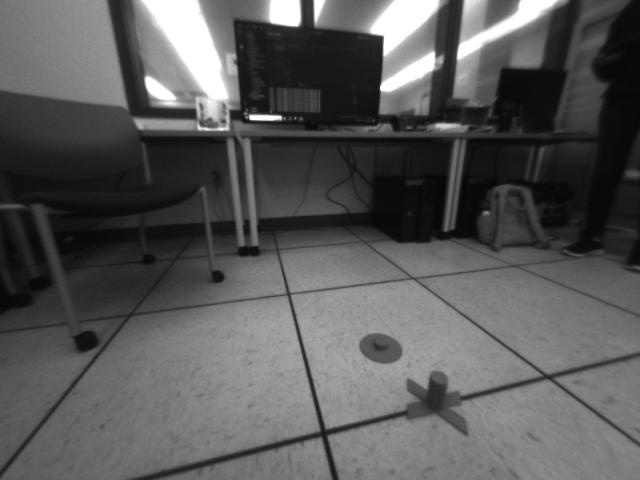X: (405, 370, 468, 437)
